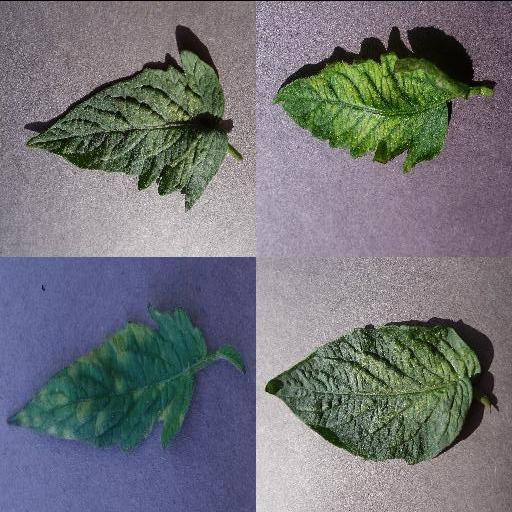Leaf Mold: (5, 303, 209, 453)
Mosaic Virus: (272, 52, 466, 176)
Spider Mites: (24, 46, 226, 210), (265, 319, 481, 462)
